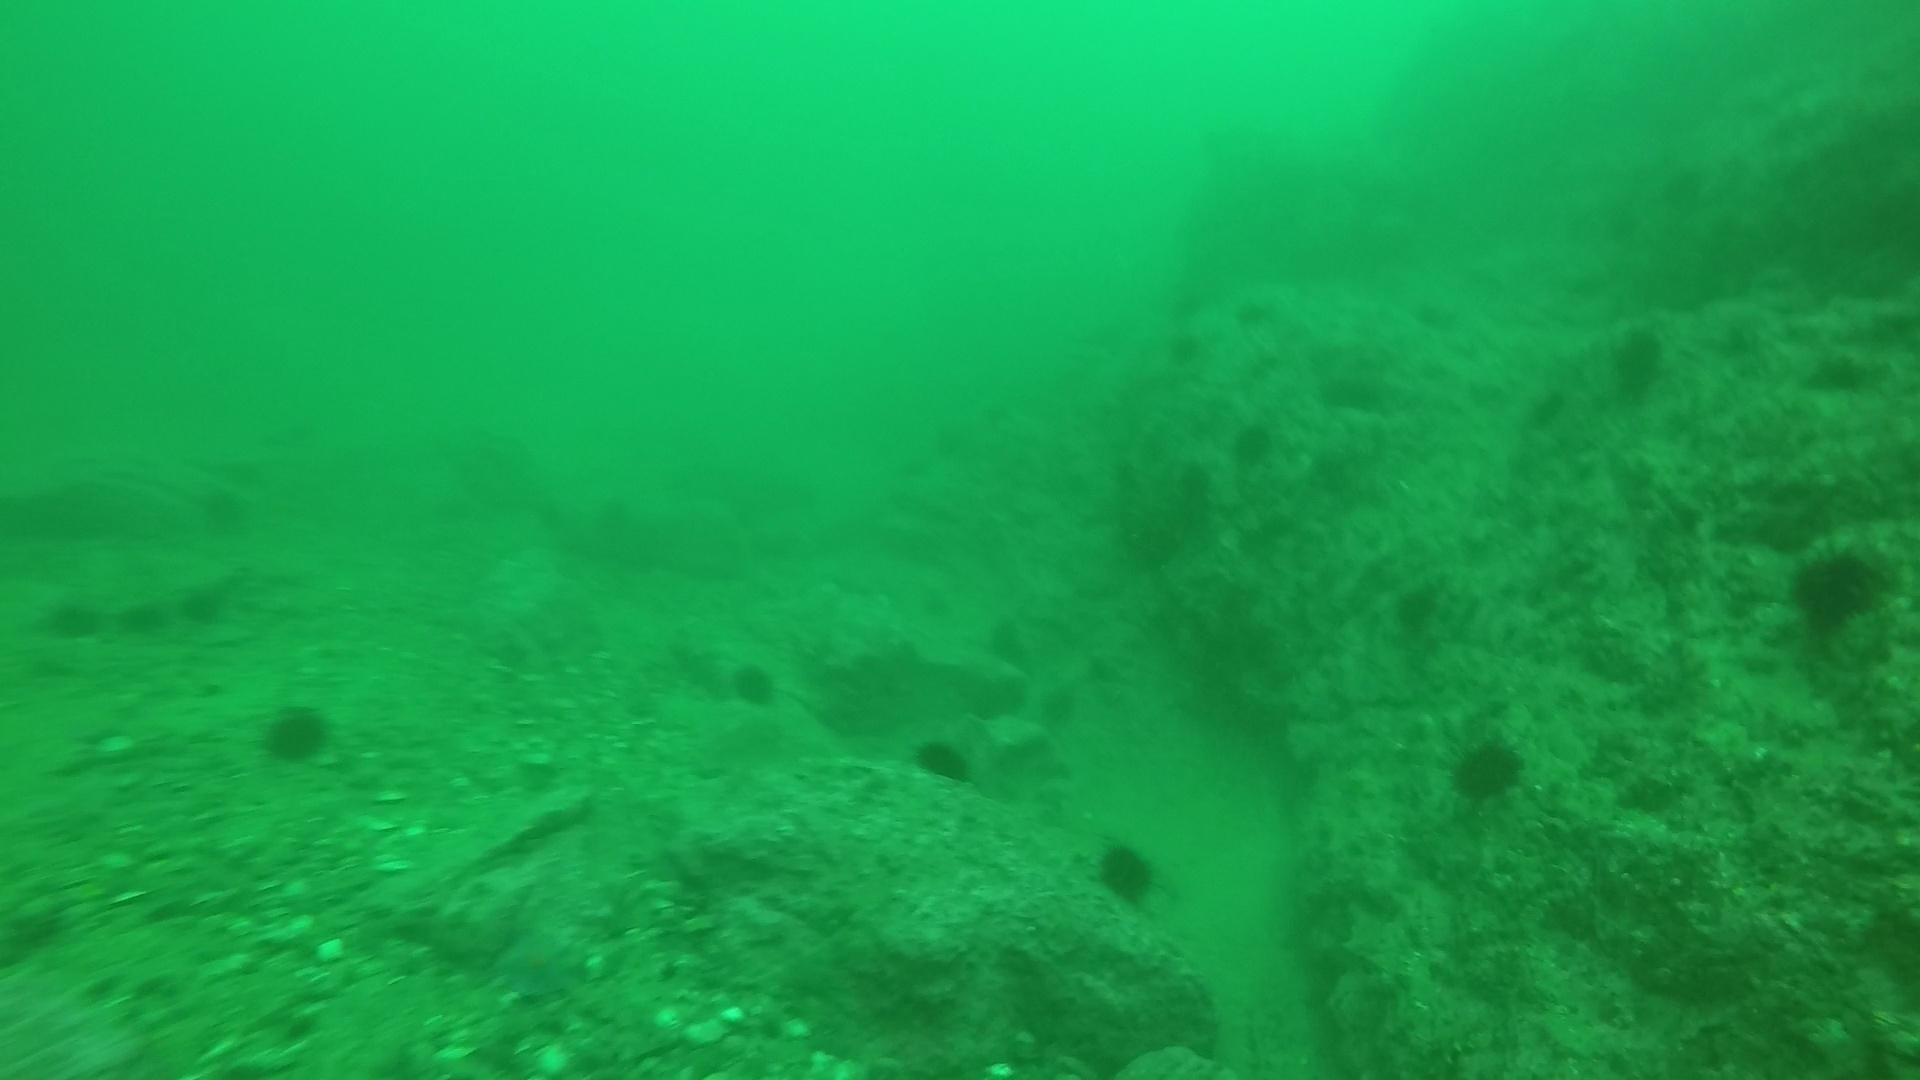echinus: (1782, 537, 1891, 636), (1443, 728, 1530, 808), (255, 698, 338, 770), (1087, 833, 1164, 909), (907, 731, 977, 789), (165, 579, 233, 634), (109, 587, 177, 642), (1221, 414, 1286, 468), (724, 657, 783, 712), (200, 485, 255, 531), (1168, 328, 1209, 373), (1178, 455, 1218, 498), (1164, 277, 1205, 320), (1238, 299, 1279, 343)
starfish: (487, 915, 591, 1002)
